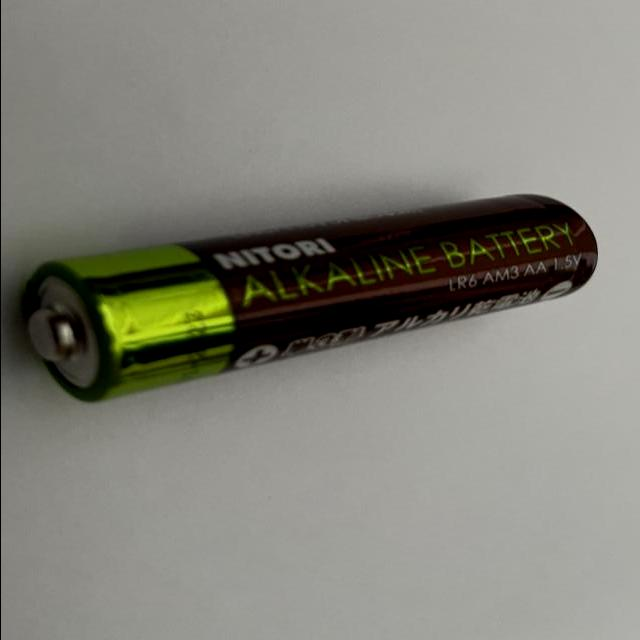AAA: (22, 192, 600, 402)
